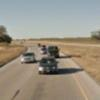cars: (38, 57, 58, 74)
